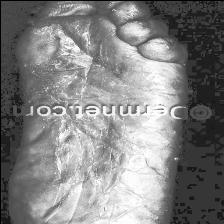Non-Cancerous Skin Condition: (13, 0, 181, 103), (25, 121, 157, 224)
